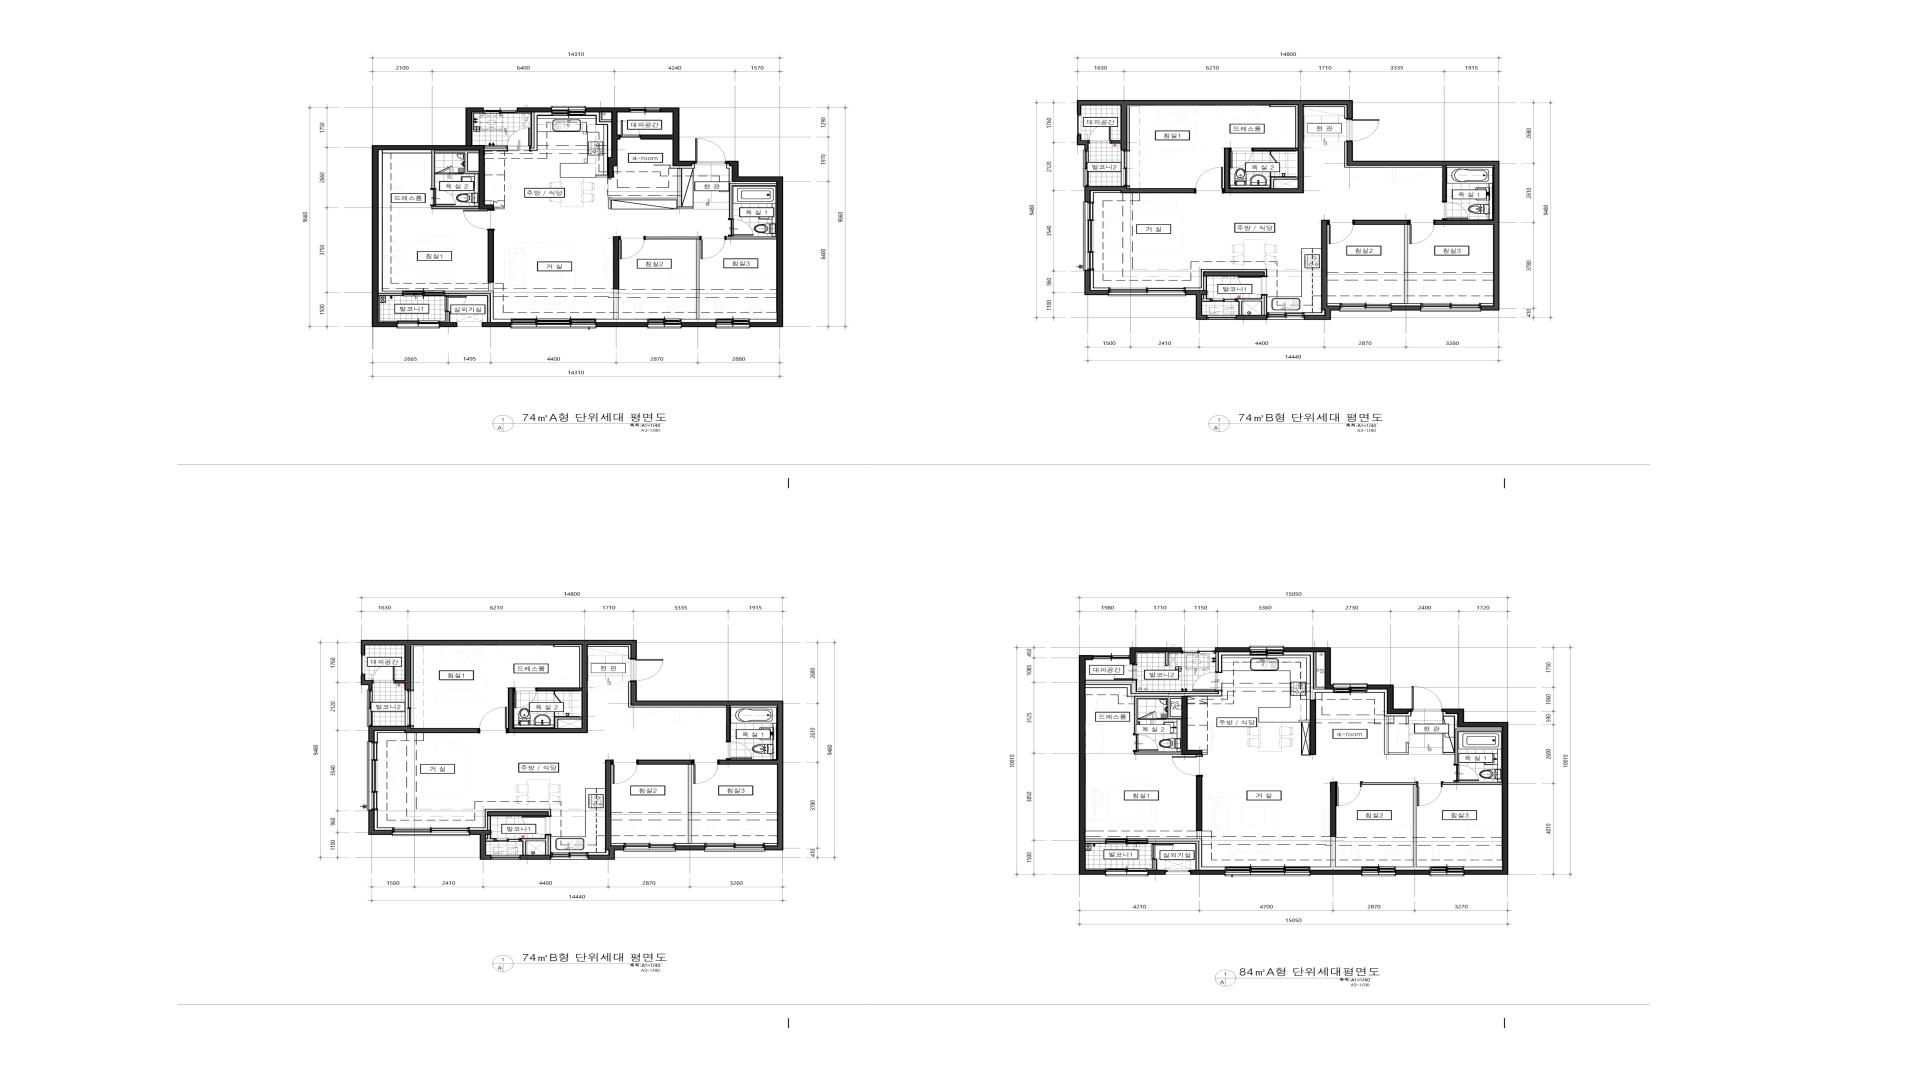door: (655, 708, 687, 735), (732, 661, 764, 687), (1448, 120, 1480, 146), (1371, 169, 1403, 195), (1470, 736, 1503, 761), (658, 127, 691, 152), (430, 781, 463, 804), (1146, 241, 1179, 265), (596, 274, 629, 298), (1160, 762, 1195, 785), (597, 814, 624, 837), (1379, 678, 1411, 698), (439, 318, 465, 342), (534, 135, 563, 156), (411, 696, 442, 716), (369, 703, 394, 727), (539, 692, 566, 715), (678, 814, 704, 836), (1408, 795, 1435, 818), (1394, 274, 1420, 297), (1313, 274, 1340, 297), (534, 199, 563, 219), (1125, 157, 1154, 177), (1283, 692, 1308, 715), (1425, 687, 1451, 709), (1329, 795, 1354, 818), (447, 269, 472, 291), (1100, 684, 1125, 707), (1286, 170, 1313, 190), (596, 198, 624, 215), (1125, 220, 1150, 239), (409, 761, 434, 778), (712, 796, 737, 814), (625, 253, 650, 270), (1428, 257, 1453, 274), (1139, 741, 1164, 758), (1365, 749, 1386, 769), (382, 869, 406, 885), (1098, 330, 1122, 345), (642, 356, 666, 372), (1114, 851, 1137, 866), (425, 347, 463, 355), (417, 682, 454, 688), (1369, 667, 1406, 674), (414, 737, 431, 746), (626, 231, 644, 239), (1130, 198, 1147, 206), (1146, 719, 1163, 727), (369, 752, 396, 756), (1323, 766, 1349, 770), (1085, 212, 1112, 216), (584, 786, 609, 790), (1427, 729, 1451, 733), (611, 125, 637, 128), (1302, 247, 1328, 249), (658, 245, 683, 248), (1101, 733, 1126, 736)
wall: (596, 152, 741, 388), (687, 732, 806, 909), (1325, 78, 1448, 199), (609, 617, 732, 738), (446, 58, 661, 127), (1403, 193, 1486, 369), (1466, 761, 1540, 902), (1265, 152, 1344, 248), (1072, 663, 1100, 882), (1451, 669, 1540, 736), (1058, 142, 1084, 361), (342, 683, 368, 901), (603, 167, 663, 253), (1340, 274, 1394, 360), (463, 156, 562, 199), (1127, 142, 1220, 181), (411, 683, 504, 721), (1361, 704, 1414, 767), (704, 764, 764, 818), (1420, 224, 1480, 278), (1354, 795, 1408, 852), (624, 815, 678, 870), (758, 617, 796, 687), (1474, 78, 1513, 146), (396, 723, 463, 761), (1112, 182, 1179, 220), (566, 688, 628, 729), (609, 732, 653, 787), (1349, 663, 1411, 702), (1328, 193, 1369, 248), (700, 761, 764, 796), (1416, 222, 1480, 257), (462, 320, 493, 388), (1141, 703, 1195, 741), (1125, 206, 1172, 241), (1141, 727, 1188, 762), (409, 746, 456, 781), (400, 214, 459, 240), (1125, 690, 1229, 703), (400, 302, 426, 353), (566, 733, 584, 787), (770, 624, 785, 687), (1486, 83, 1501, 146), (1349, 712, 1365, 769), (1416, 185, 1520, 193), (700, 725, 804, 732), (1311, 713, 1323, 767), (1126, 663, 1236, 669), (1154, 327, 1174, 356), (1307, 274, 1313, 360), (1154, 356, 1196, 369), (439, 895, 479, 909), (463, 219, 562, 224), (438, 866, 480, 878), (1170, 848, 1212, 860), (1170, 877, 1211, 889), (601, 353, 616, 382), (1263, 688, 1283, 709), (456, 804, 463, 864), (596, 215, 603, 274), (1188, 785, 1195, 844), (1303, 669, 1321, 690), (1172, 265, 1179, 323), (591, 815, 597, 870), (1323, 795, 1329, 851), (596, 298, 603, 349), (1110, 142, 1133, 157), (394, 683, 417, 696), (410, 309, 436, 319), (1270, 663, 1323, 669), (1308, 704, 1357, 709), (456, 742, 463, 781), (1172, 203, 1179, 241), (1188, 724, 1195, 762), (596, 108, 611, 125), (538, 683, 583, 688), (1254, 142, 1299, 148), (655, 873, 695, 878), (1371, 364, 1411, 369), (1387, 855, 1427, 860), (655, 903, 695, 909), (1387, 884, 1425, 889), (472, 269, 476, 319), (579, 382, 616, 388), (459, 705, 496, 711), (603, 270, 650, 274), (764, 725, 770, 753), (1480, 186, 1486, 214), (1406, 669, 1424, 678), (574, 873, 604, 878), (1290, 364, 1320, 369), (1305, 884, 1336, 889), (1305, 855, 1336, 860), (574, 903, 604, 909), (452, 149, 459, 173), (1477, 855, 1498, 860), (661, 158, 741, 160), (558, 108, 562, 135), (1080, 698, 1100, 703), (409, 269, 447, 272), (1080, 848, 1118, 851), (349, 866, 386, 869), (421, 320, 439, 326), (662, 353, 699, 356), (1065, 327, 1102, 330), (746, 873, 764, 878), (400, 268, 406, 281), (1410, 700, 1425, 705), (1451, 700, 1466, 705), (349, 717, 369, 721), (1286, 152, 1290, 170), (1435, 795, 1462, 798), (394, 717, 411, 721), (529, 705, 541, 711), (1069, 239, 1091, 241), (661, 372, 666, 382), (679, 272, 699, 274), (1085, 760, 1105, 762), (661, 382, 670, 388), (378, 895, 386, 901), (382, 885, 386, 895), (1095, 356, 1102, 361), (1069, 211, 1085, 214), (1098, 345, 1102, 356), (683, 244, 699, 247), (1110, 877, 1118, 882), (1114, 866, 1118, 877), (1085, 732, 1101, 735), (1414, 728, 1428, 731), (1126, 732, 1141, 735), (650, 741, 653, 753), (1366, 202, 1369, 214), (353, 779, 375, 781), (1451, 728, 1461, 731), (353, 752, 369, 753), (637, 124, 650, 125)
window: (1196, 359, 1290, 369), (479, 903, 574, 910), (1211, 884, 1305, 890), (480, 869, 574, 876), (493, 378, 579, 385), (1211, 851, 1305, 856), (1320, 359, 1371, 368), (1411, 359, 1462, 368), (386, 862, 438, 869), (604, 869, 655, 876), (695, 869, 746, 876), (1102, 356, 1154, 363), (493, 385, 579, 389), (1118, 843, 1170, 849), (1118, 877, 1170, 884), (456, 171, 464, 214), (456, 108, 464, 149), (1229, 690, 1263, 699), (496, 705, 529, 715), (386, 897, 439, 902), (1425, 884, 1478, 889), (604, 903, 655, 909), (695, 903, 746, 909), (1336, 884, 1387, 889), (1425, 851, 1477, 856), (1102, 323, 1154, 328), (1220, 144, 1254, 152), (1336, 851, 1387, 856), (1133, 141, 1171, 148), (616, 349, 662, 355), (1084, 144, 1110, 152), (1299, 144, 1325, 152), (729, 617, 758, 624), (404, 240, 410, 268), (1236, 663, 1270, 669), (616, 382, 661, 386), (452, 173, 456, 214), (452, 109, 456, 149), (1445, 78, 1474, 83), (352, 895, 378, 901), (1068, 356, 1095, 361), (404, 281, 410, 302), (1100, 663, 1126, 669), (1323, 663, 1349, 669), (1424, 669, 1451, 674), (1084, 877, 1110, 882), (504, 683, 538, 687), (670, 382, 695, 388), (616, 386, 661, 389), (400, 240, 404, 268), (368, 683, 394, 687), (583, 683, 609, 687), (400, 281, 404, 302)
